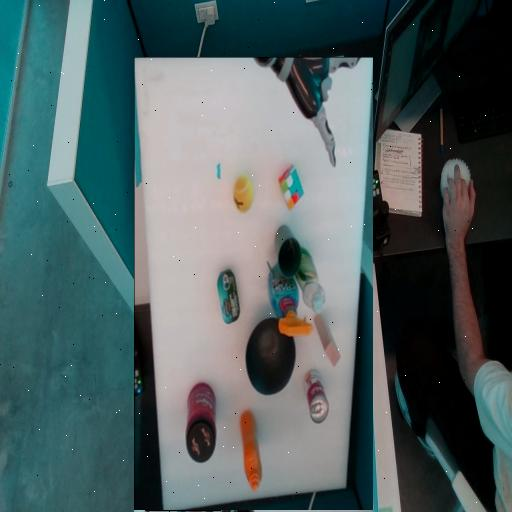bowl: (211, 174, 261, 249)
cleanser: (182, 254, 213, 319)
coffee_can: (291, 130, 320, 160)
jaco: (145, 419, 221, 468)
meat_can: (267, 244, 289, 298)
mug: (207, 291, 232, 341)
mustard_bottle: (246, 107, 266, 126)
rubik: (203, 368, 227, 392)
soup_can: (179, 144, 202, 197)
tennis_ball: (255, 357, 274, 391)
windex: (195, 232, 239, 298)
wooden_block: (166, 214, 192, 238)
workspace: (134, 58, 373, 510)
